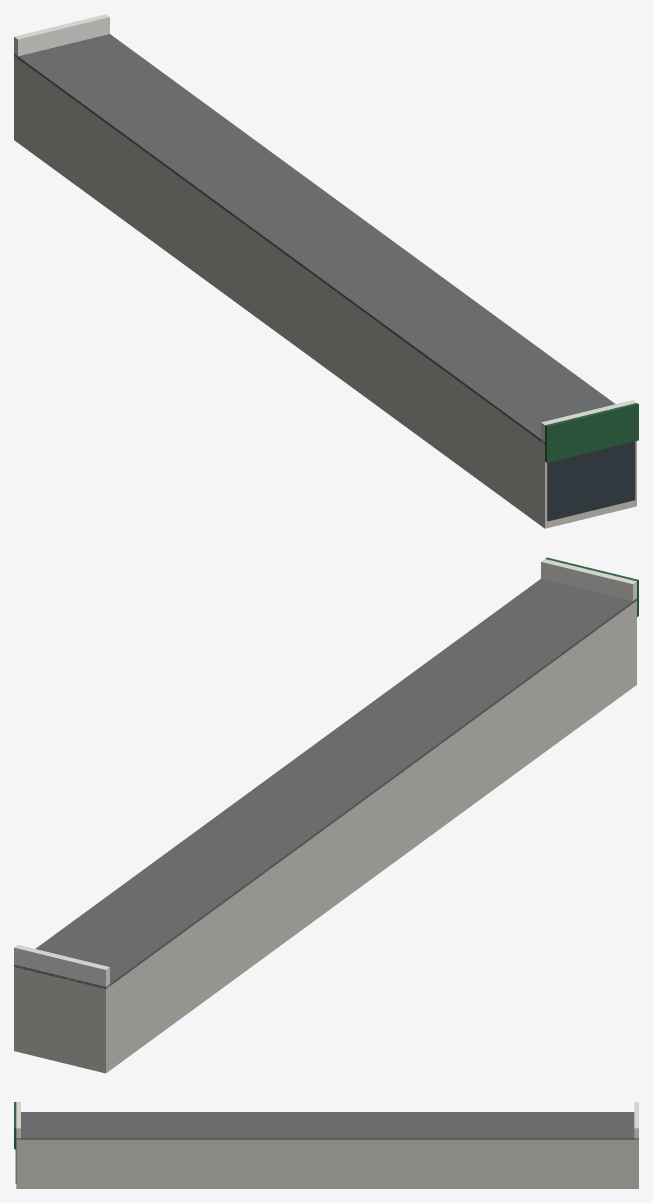
File: store-bay.glb
The picture shows the model from 3 angles, top to bottom: view 1: azimuth 30°, elevation 25°; view 2: azimuth 150°, elevation 25°; view 3: azimuth 270°, elevation 25°; orthographic projection. The views are drawn at different scales.
Parts seen in each view (by area): view 1: store-bay; view 2: store-bay; view 3: store-bay.
Part boxes in pixels (x1,y1,x2,y2): store-bay: [14, 14, 638, 528]; store-bay: [14, 557, 638, 1073]; store-bay: [14, 1102, 638, 1188].
Bounding box in the file's own units: 4 × 4.3 × 40.15.
